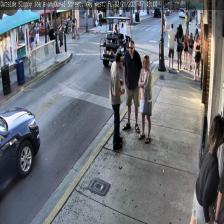person: (122, 41, 141, 133), (110, 51, 125, 150), (137, 55, 152, 142)
